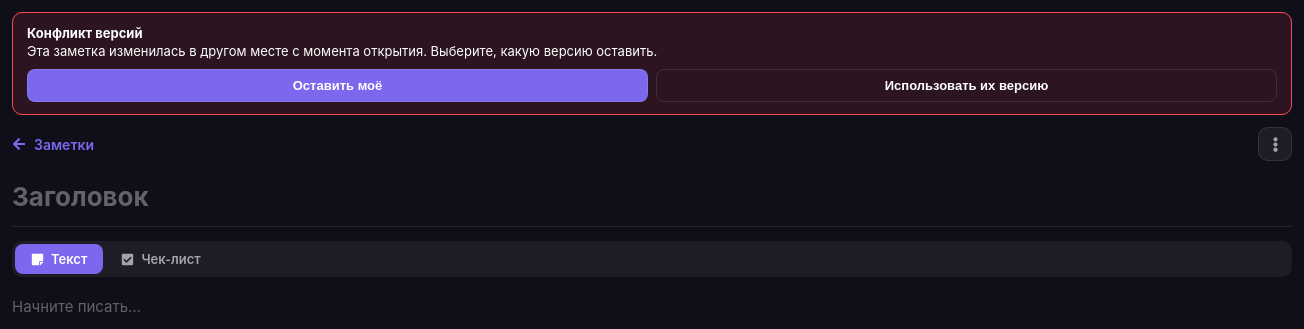
Scenario: an empty draft already left on the device is never applied over the note without asking
This screenshot has width=1304, height=329.
Check: the text "Конфликт версий" is shown, box [27,25,142,41]
Click the button "Использовать их версию".
click(966, 86)  # box [656,69,1277,102]
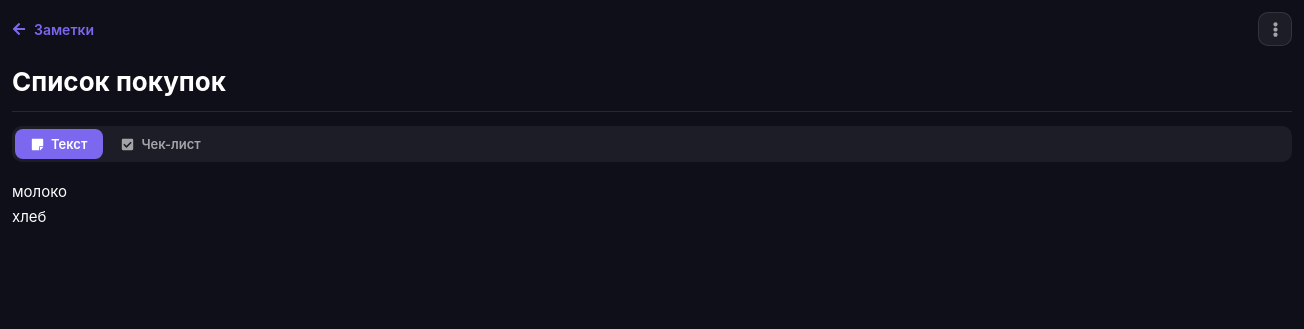
Check: the field showing "Список покупок" is shown, box [12,66,1292,112]
